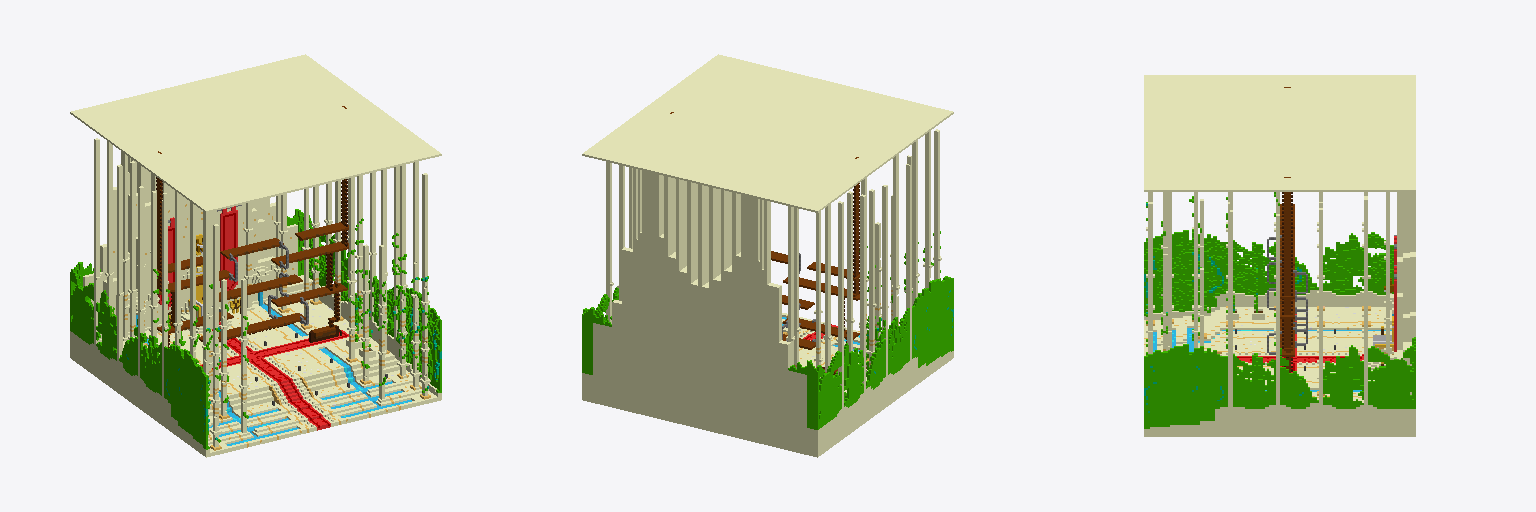
3 views of the same model, side by side, from view 1: azimuth 30°, elevation 25°; view 2: azimuth 150°, elevation 25°; view 3: azimuth 270°, elevation 25° (orthographic).
Bounding box in the file's own units: 126 × 126 × 126.
Materials: 1 (1 with a texture image).